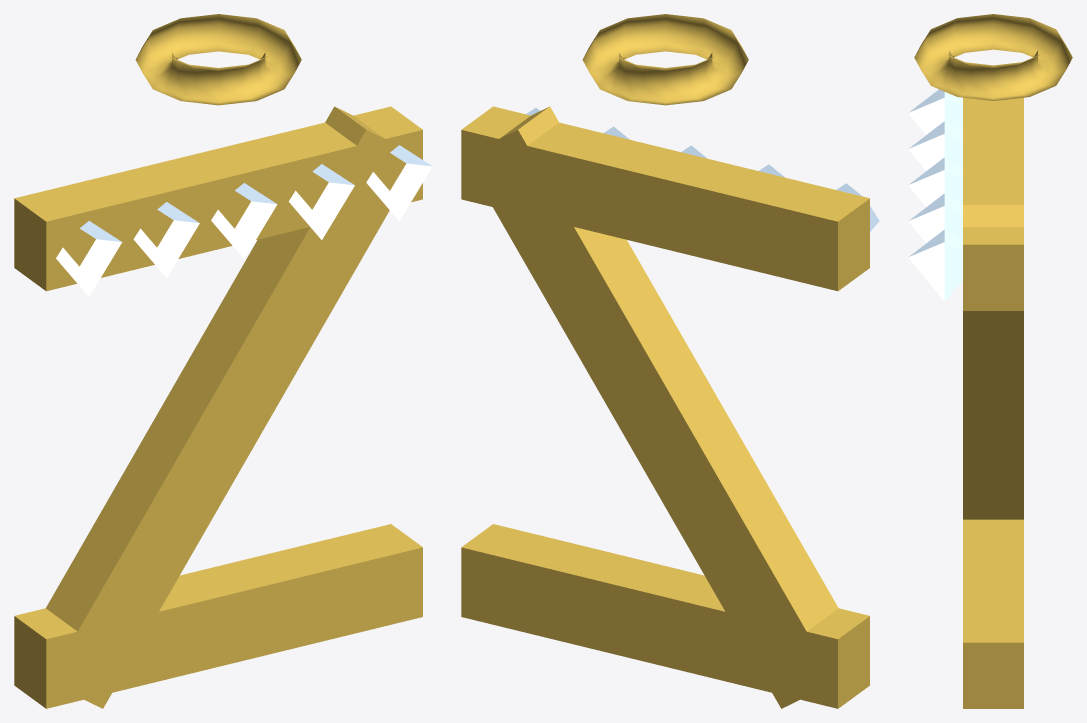
The model's file is frostbox_pendant_initial.glb.
3 renders of one model, left to right at view 1: azimuth 30°, elevation 25°; view 2: azimuth 150°, elevation 25°; view 3: azimuth 270°, elevation 25°, orthographic. The views are drawn at different scales.
Visible parts, largest first — view 1: frostbox_pendant_initial; view 2: frostbox_pendant_initial; view 3: frostbox_pendant_initial.
Part boxes in pixels (x1,y1,x2,y2): frostbox_pendant_initial: (14, 14, 432, 708); frostbox_pendant_initial: (461, 14, 879, 708); frostbox_pendant_initial: (908, 14, 1072, 708).
Size of the model in its own units: 0.34 by 0.5366 by 0.135.
